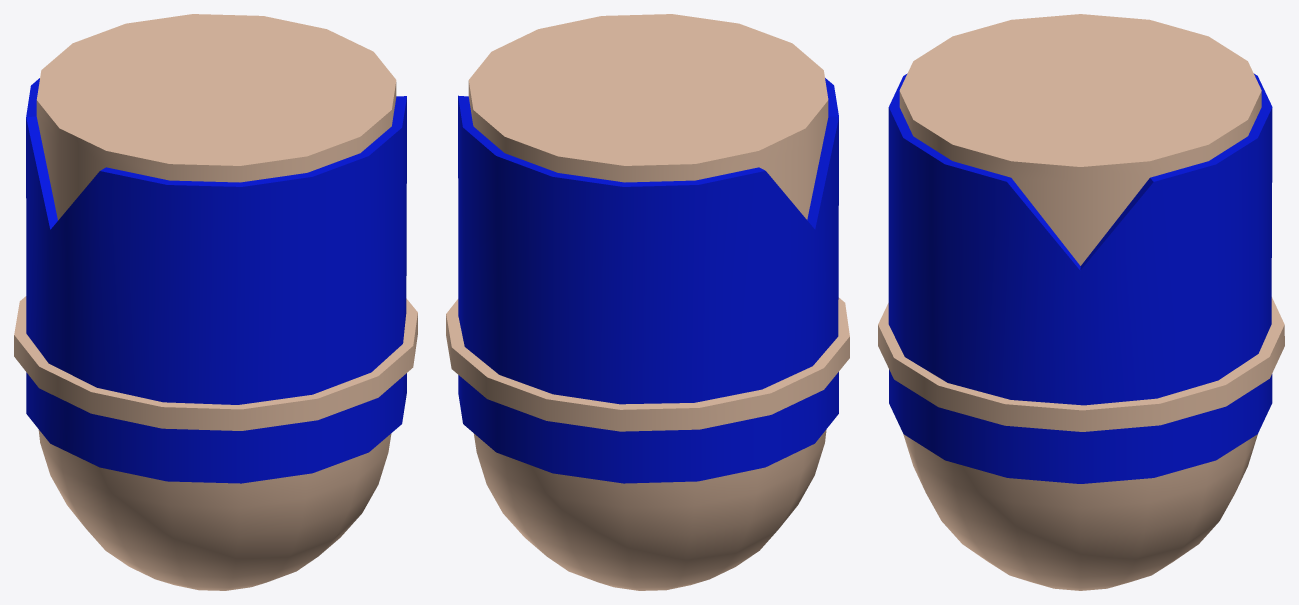
The model's file is Billy Body.fbx.
The picture shows the model from 3 angles, left to right: view 1: azimuth 30°, elevation 25°; view 2: azimuth 150°, elevation 25°; view 3: azimuth 270°, elevation 25°; orthographic projection.
Visible parts, largest first — view 1: Billy_Body; view 2: Billy_Body; view 3: Billy_Body.
Boxes of the visible parts, x1=… form: Billy_Body: x1=14, y1=14, x2=417, y2=590; Billy_Body: x1=446, y1=14, x2=849, y2=590; Billy_Body: x1=878, y1=14, x2=1284, y2=590.
Bounding box in the file's own units: 91.6 × 120 × 91.61.
